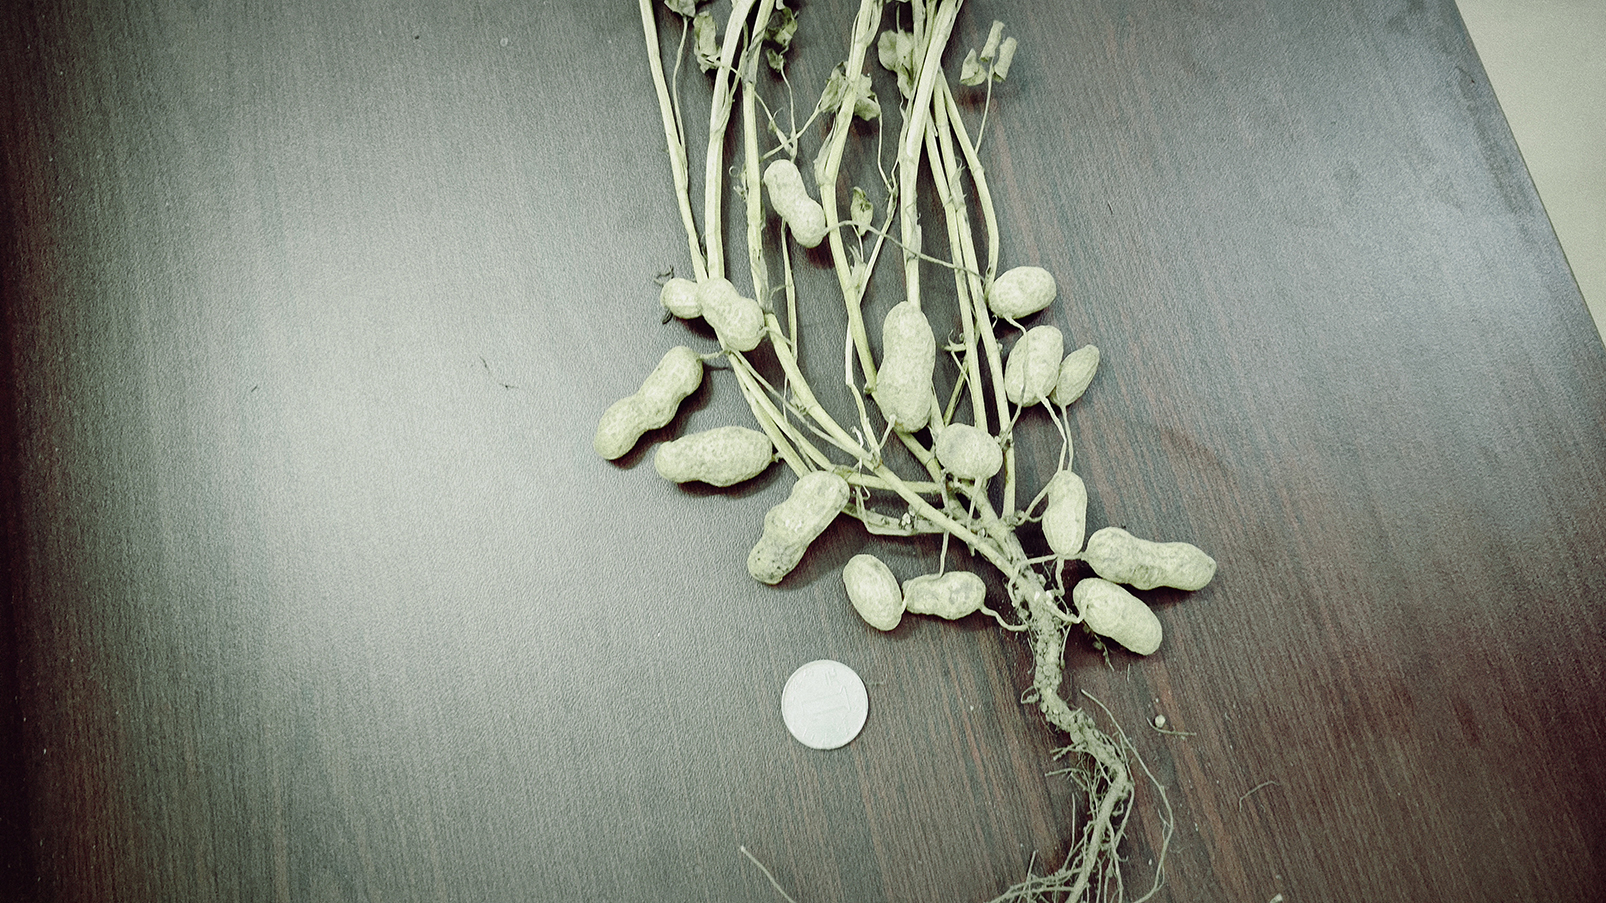h: (595, 345, 704, 461), (746, 471, 852, 585), (1088, 526, 1217, 590), (872, 301, 933, 430), (654, 424, 774, 487), (661, 277, 761, 351), (1074, 578, 1163, 654), (764, 160, 827, 246), (1004, 322, 1060, 408), (842, 553, 904, 630), (902, 570, 986, 620), (987, 264, 1058, 320), (1042, 470, 1086, 557), (934, 423, 1002, 480), (1052, 343, 1101, 410)
